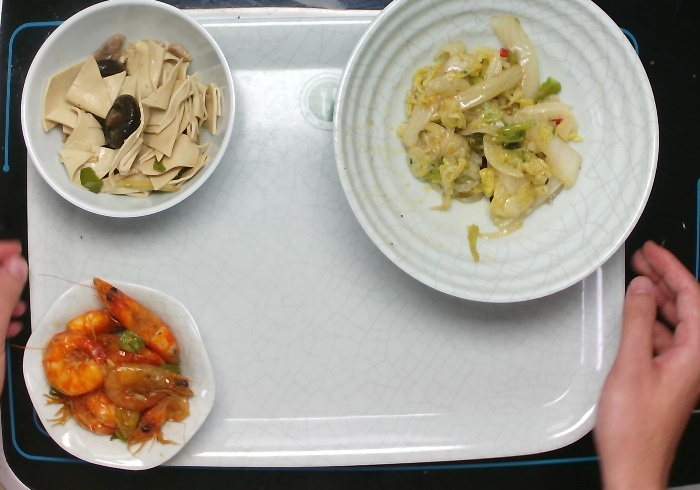JYsf-Da_Tang_Wan: (332, 1, 661, 305)
JYsf-Fan_Wan: (20, 1, 236, 220)
WCQzf-Hua_Duo_Wan: (21, 275, 217, 473)
